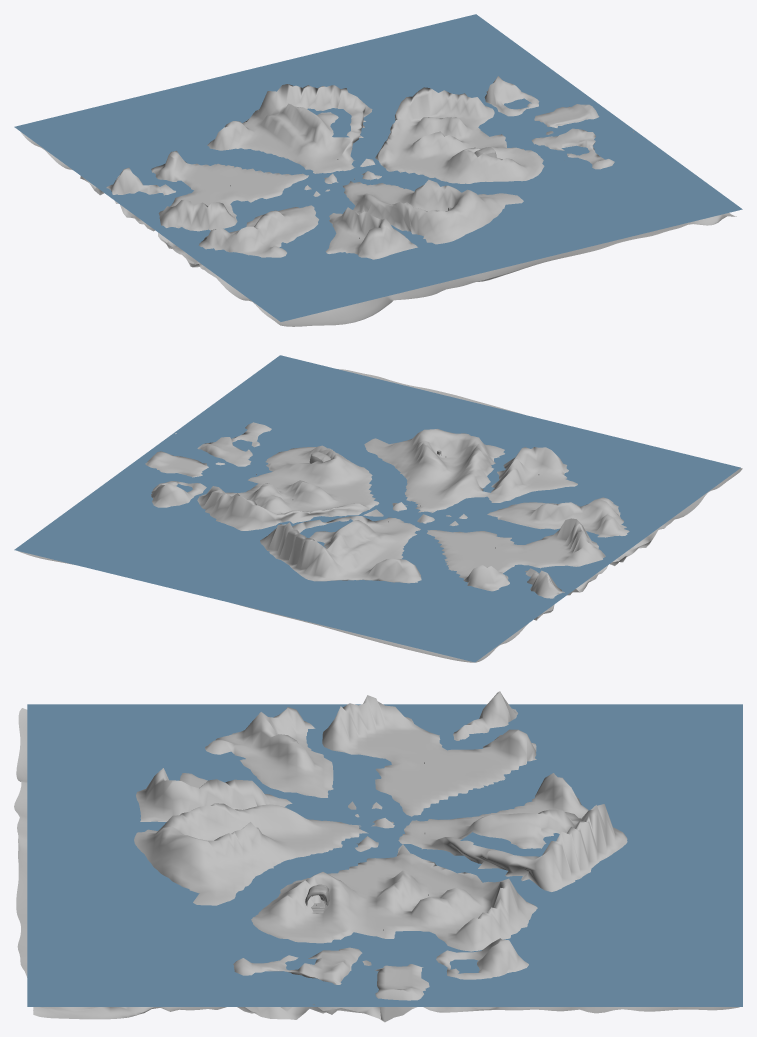
Rendered from map.fbx.
3 views of the same model, one above another, from view 1: azimuth 30°, elevation 25°; view 2: azimuth 150°, elevation 25°; view 3: azimuth 270°, elevation 25° (orthographic). The views are drawn at different scales.
Visible parts, largest first — view 1: pPlane5, pPlane4, pPlane6; view 2: pPlane5, pPlane4; view 3: pPlane5, pPlane4, pPlane6.
Part boxes in pixels (x1,y1,x2,y2): pPlane5: (14, 14, 742, 321); pPlane4: (21, 76, 736, 326); pPlane6: (307, 108, 351, 137); pPlane5: (14, 355, 740, 662); pPlane4: (18, 369, 742, 662); pPlane5: (27, 704, 742, 1006); pPlane4: (14, 691, 739, 1022); pPlane6: (460, 832, 559, 856).
Bounding box in the file's own units: 35.14 × 3.45 × 35.48.
